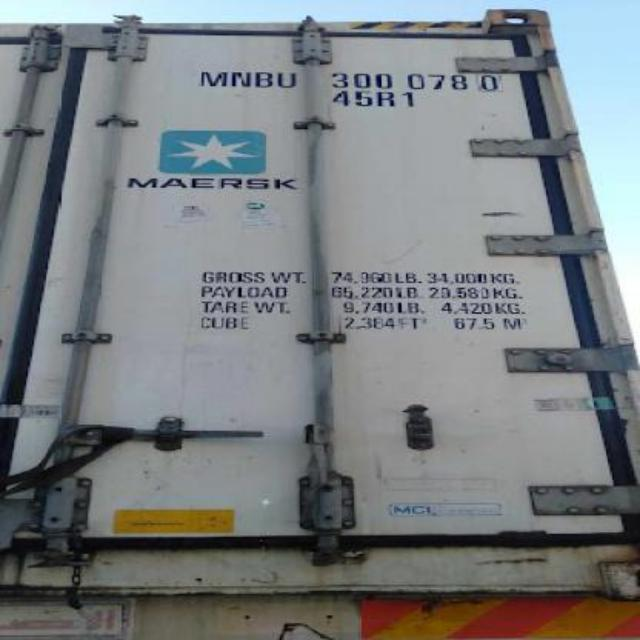0: (478, 74, 499, 92), (406, 72, 426, 90), (352, 73, 372, 89), (376, 72, 392, 90)
3: (330, 71, 350, 91)
7: (428, 73, 446, 91)
8: (450, 74, 470, 90)
B: (254, 72, 274, 88)
M: (200, 70, 228, 88)
N: (230, 70, 252, 88)
U: (279, 72, 295, 88)
